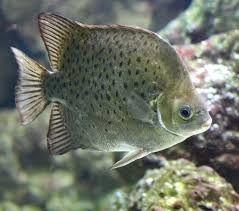Scat Fish: (10, 11, 211, 174)
